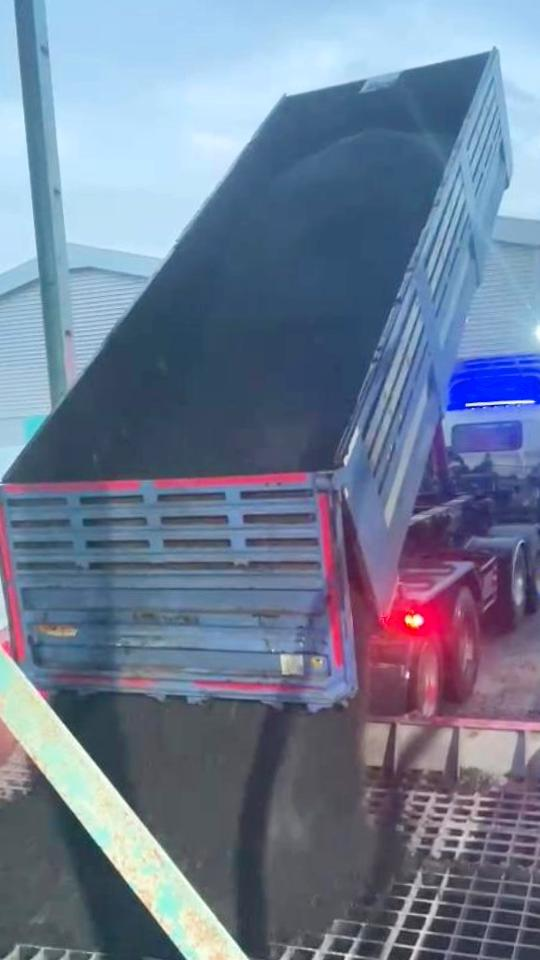gravel: (152, 126, 452, 475), (57, 695, 370, 954), (0, 781, 169, 960)
